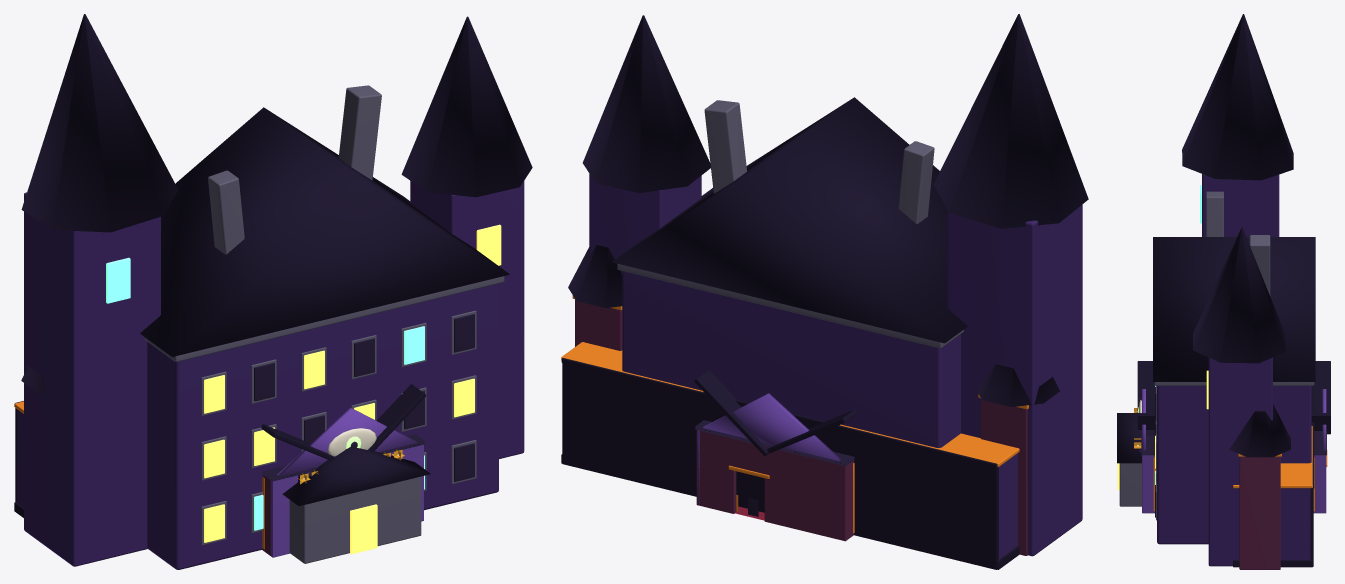
File: fright_landmarks.glb
3 renders of one model, left to right at view 1: azimuth 30°, elevation 25°; view 2: azimuth 150°, elevation 25°; view 3: azimuth 270°, elevation 25°, orthographic. The views are drawn at different scales.
Visible parts, largest first — view 1: Manor, MirrorHall, SkullRide; view 2: Manor, SkullRide, MirrorHall; view 3: Manor, SkullRide, MirrorHall.
Part boxes in pixels (x1,y1,x2,y2): Manor: (21, 14, 532, 569); MirrorHall: (261, 384, 426, 557); SkullRide: (14, 366, 47, 517); Manor: (582, 14, 1088, 556); SkullRide: (561, 245, 1059, 569); MirrorHall: (694, 370, 857, 541); Manor: (1117, 14, 1315, 566); SkullRide: (1229, 386, 1314, 569); MirrorHall: (1134, 361, 1330, 513).
Size of the model in its own units: 33.33 by 34.09 by 16.6.
